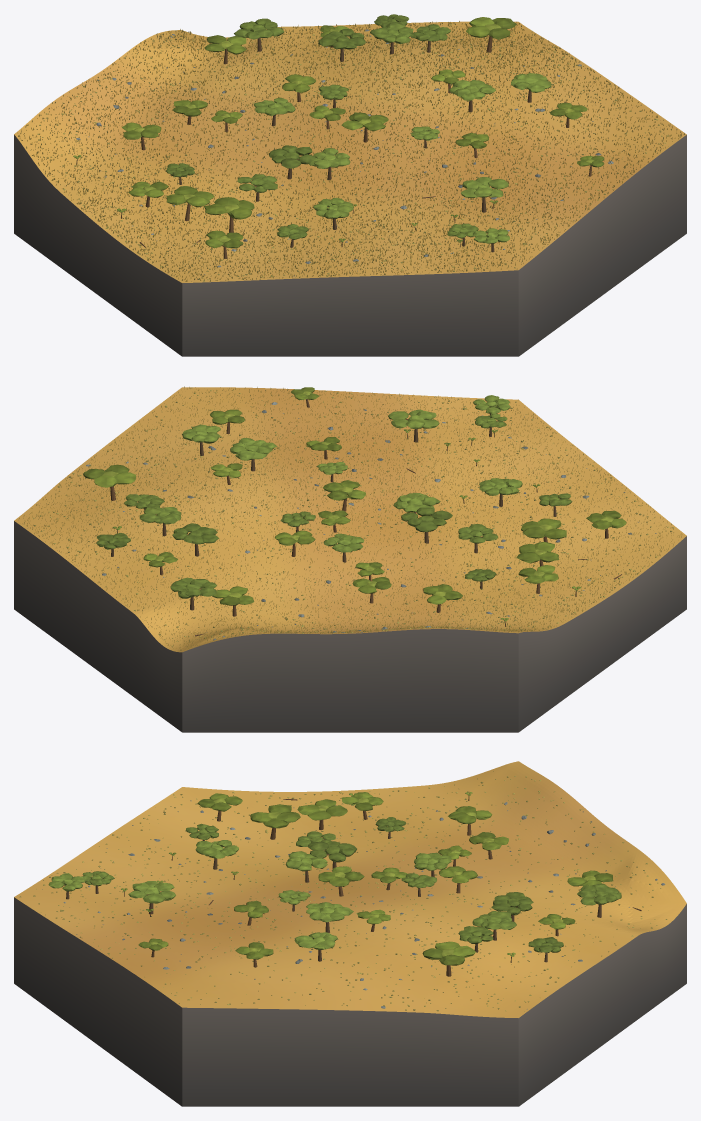
3 renders of one model, top to bottom at view 1: azimuth 30°, elevation 25°; view 2: azimuth 150°, elevation 25°; view 3: azimuth 270°, elevation 25°, orthographic.
Parts seen in each view (by area): view 1: terrain, hex_side_cut, wildflowers, broadleaf_canopy, shrubs, trunks, boulders; view 2: terrain, hex_side_cut, broadleaf_canopy, wildflowers, shrubs, trunks, boulders; view 3: terrain, hex_side_cut, broadleaf_canopy, shrubs, trunks, boulders.
Boxes of the visible parts, x1,y1,x2,y2 form: terrain: (14,21,686,282); hex_side_cut: (14,134,686,356); wildflowers: (17,21,684,281); broadleaf_canopy: (73,14,604,248); shrubs: (30,23,680,281); trunks: (76,36,591,258); boulders: (76,29,613,276); terrain: (14,387,686,652); hex_side_cut: (14,521,686,732); broadleaf_canopy: (83,387,626,621); wildflowers: (18,386,682,650); shrubs: (24,387,674,646); trunks: (110,399,608,626); boulders: (27,396,656,640); terrain: (14,761,686,1017); hex_side_cut: (14,897,686,1106); broadleaf_canopy: (48,792,621,965); shrubs: (20,771,667,1011); trunks: (66,796,601,976); boulders: (42,800,665,1009).
Size of the model in its own units: 4330 by 1054 by 5000.
